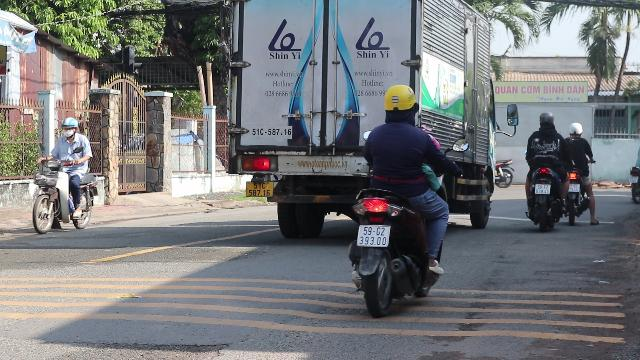helmet: (381, 83, 419, 123), (60, 116, 78, 138), (537, 111, 555, 129)
licenseplate: (357, 225, 391, 247), (534, 185, 550, 194)
motorcyclist: (342, 81, 456, 311), (27, 114, 99, 234), (520, 109, 566, 229)
